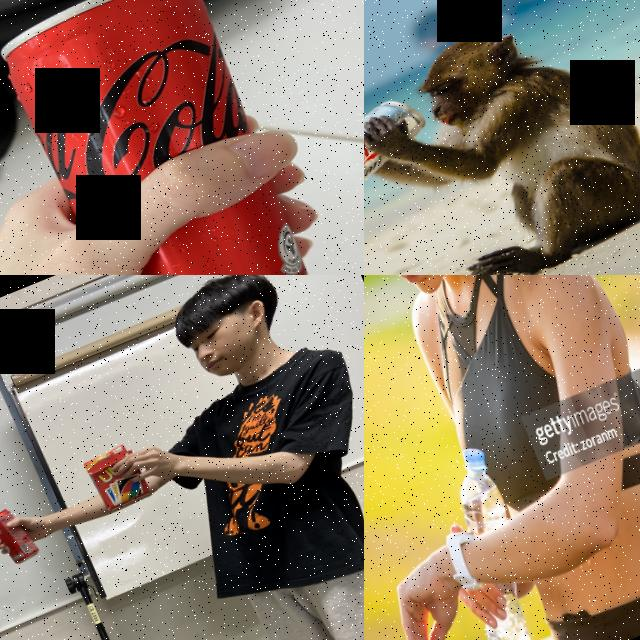bottle: (418, 444, 562, 640)
can: (0, 0, 348, 275), (364, 89, 447, 241), (0, 501, 42, 571)
